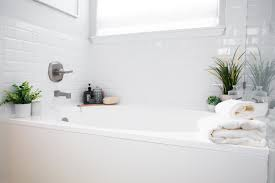bathub: (1, 89, 271, 183)
